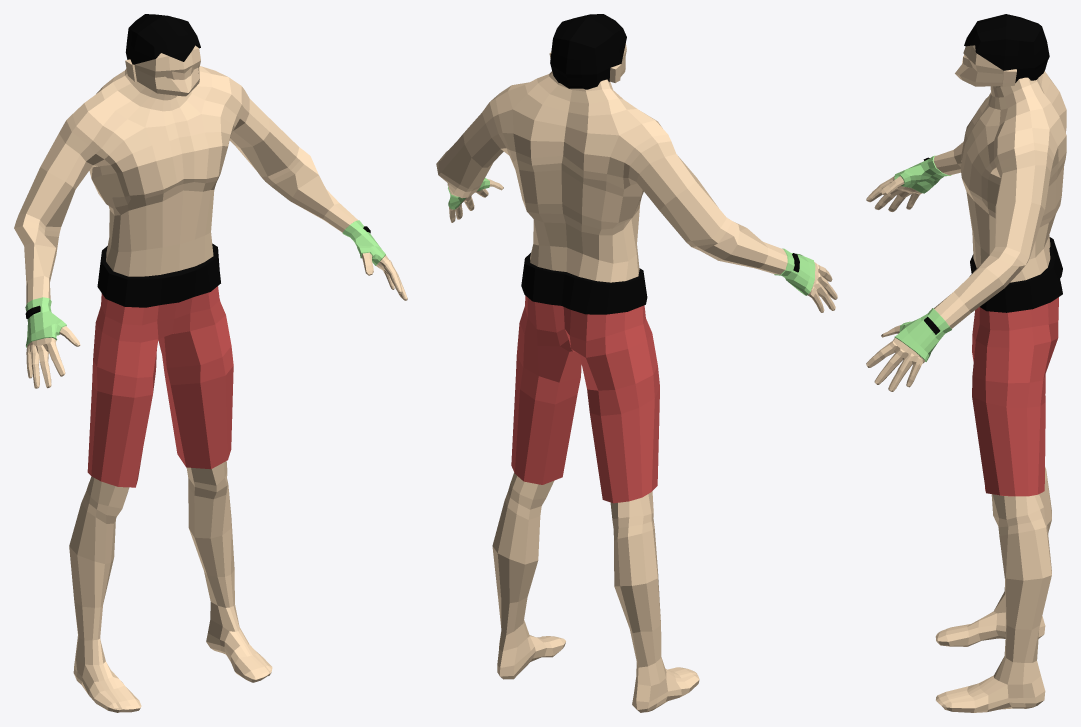
File: sorcerer_mesh.glb
3 views of the same model, side by side, from view 1: azimuth 30°, elevation 25°; view 2: azimuth 150°, elevation 25°; view 3: azimuth 270°, elevation 25° (orthographic).
Parts seen in each view (by area): view 1: fighter_03.001; view 2: fighter_03.001; view 3: fighter_03.001.
Boxes of the visible parts, <box> form: fighter_03.001: <box>14,14,407,712</box>; fighter_03.001: <box>436,14,837,712</box>; fighter_03.001: <box>866,14,1066,712</box>.
Size of the model in its own units: 0.0128 by 0.0216 by 0.00596.
1 material, 1 textured.
